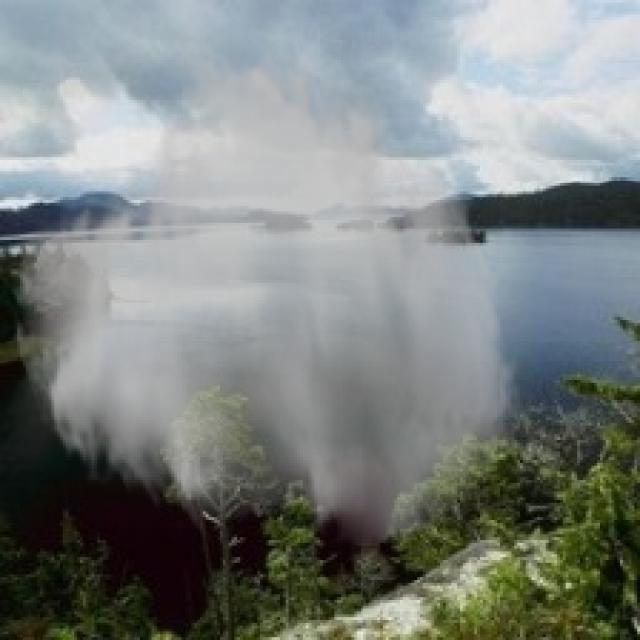smoke: (8, 29, 526, 552)
